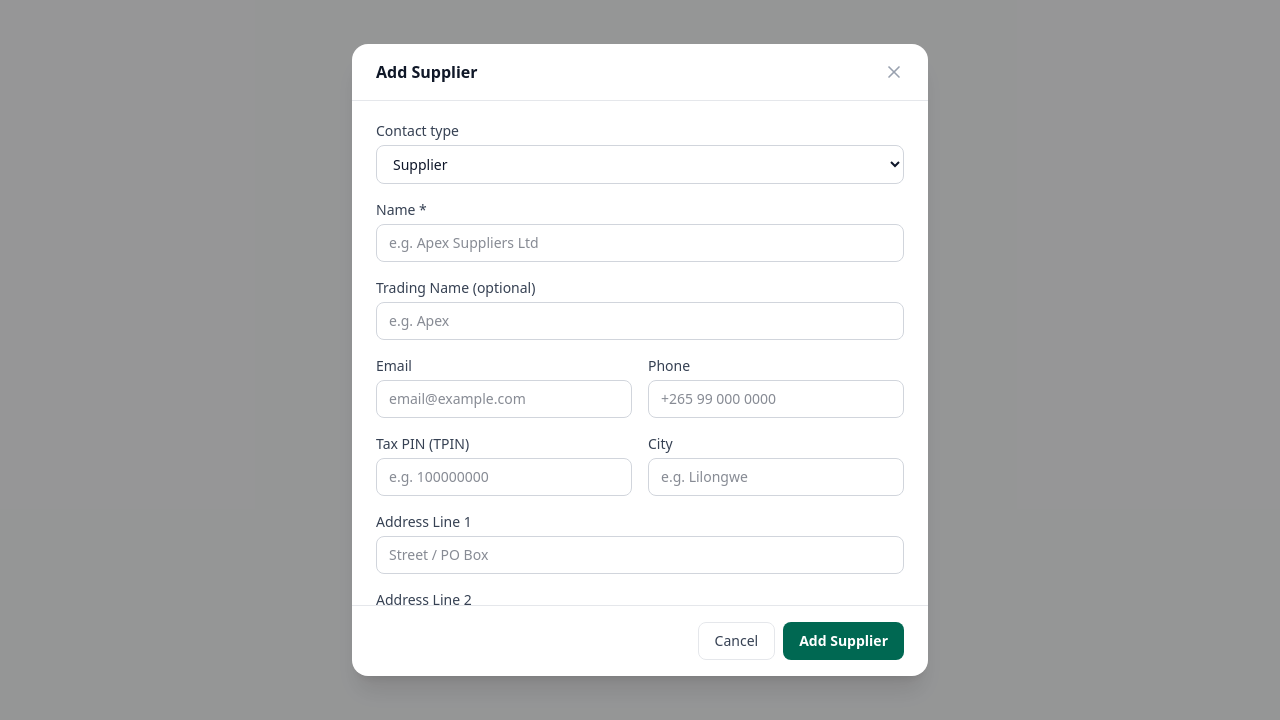
ContactModal — contact type selector › still refuses a nameless contact
Click the button with test id "contact-modal-save" at (844, 641), box [783,622,904,660]
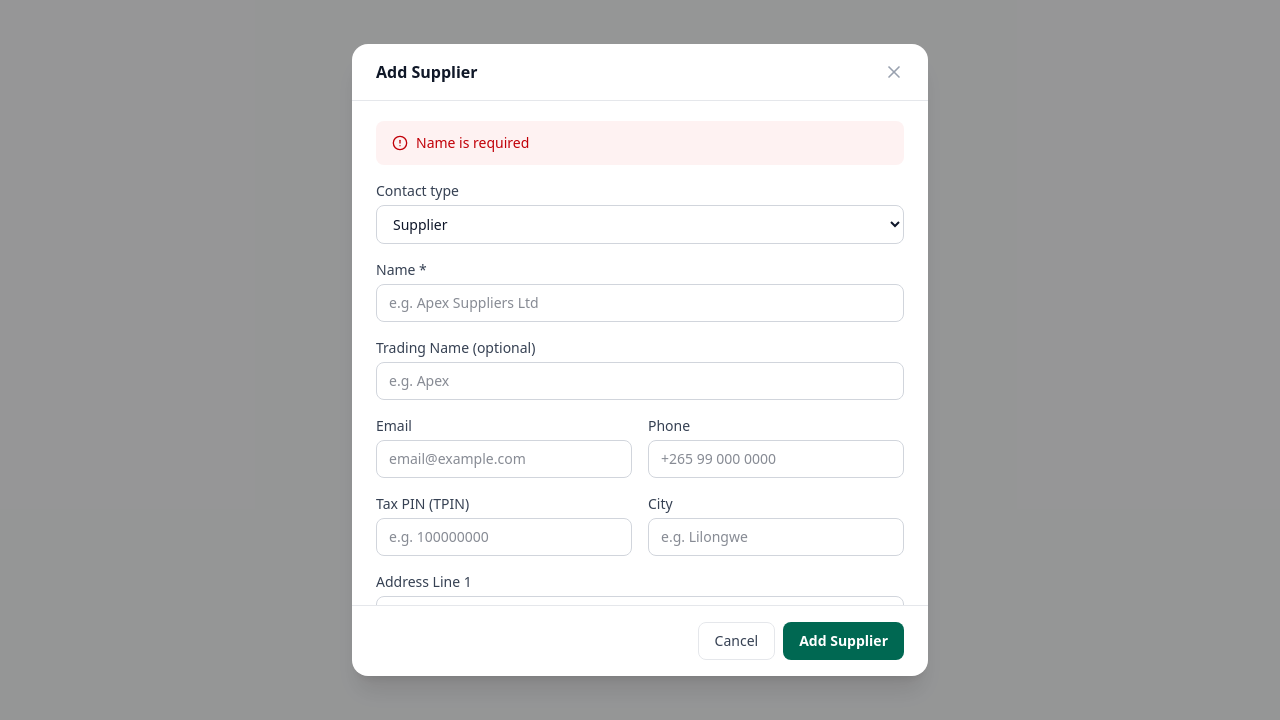
Result: the text "Name is required" is shown at [376,121,904,165]
